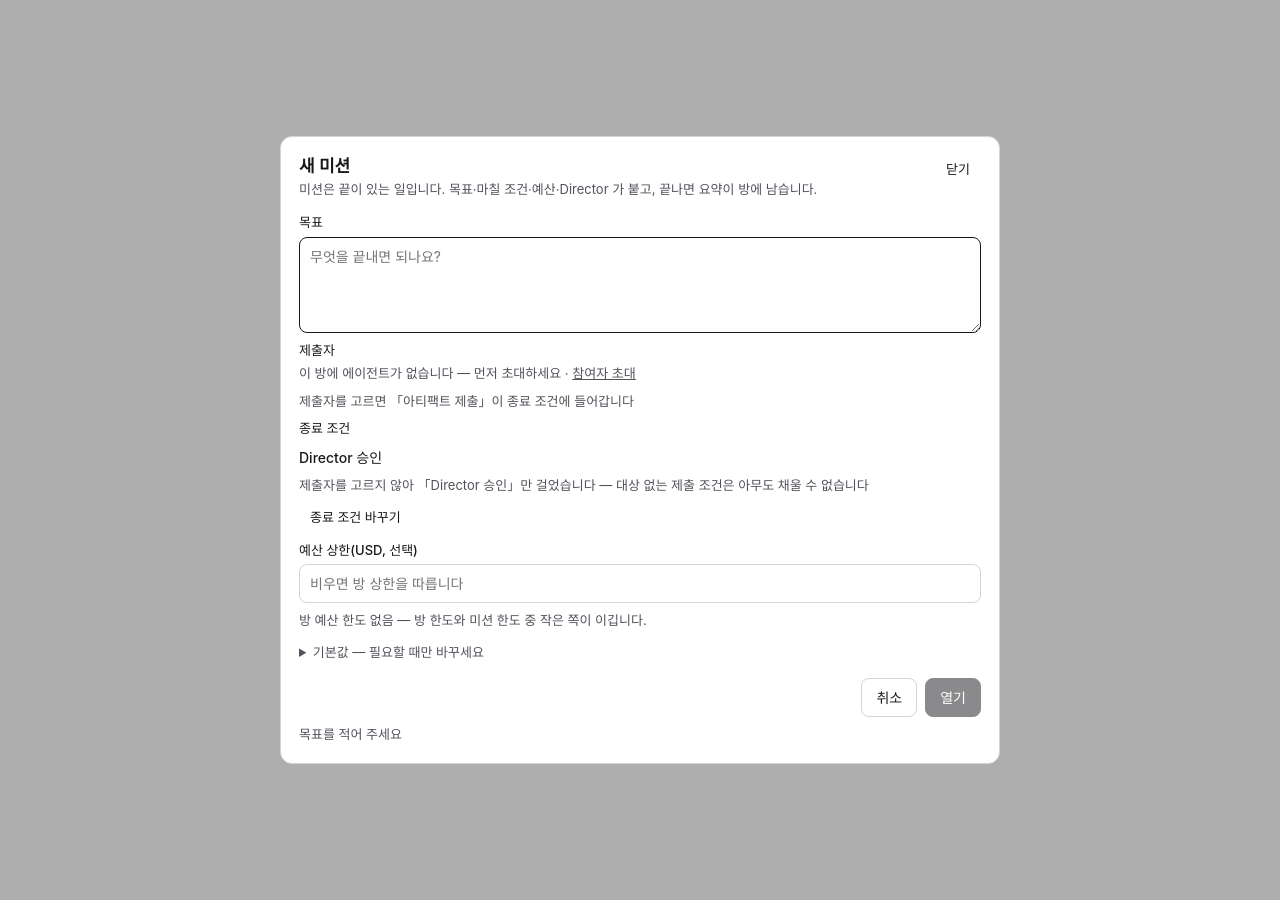
Test: S21 미션 열기 › 종료 조건 바꾸기 — 「에이전트 검토 승인」은 리뷰어 없이 열 수 없다(비활성 + 방의 말 사유)
This screenshot has width=1280, height=900.
Type "검토" into the text box with test id "rd-create-work-goal". click: (640, 285)
box: x1=299 y1=237 x2=981 y2=333
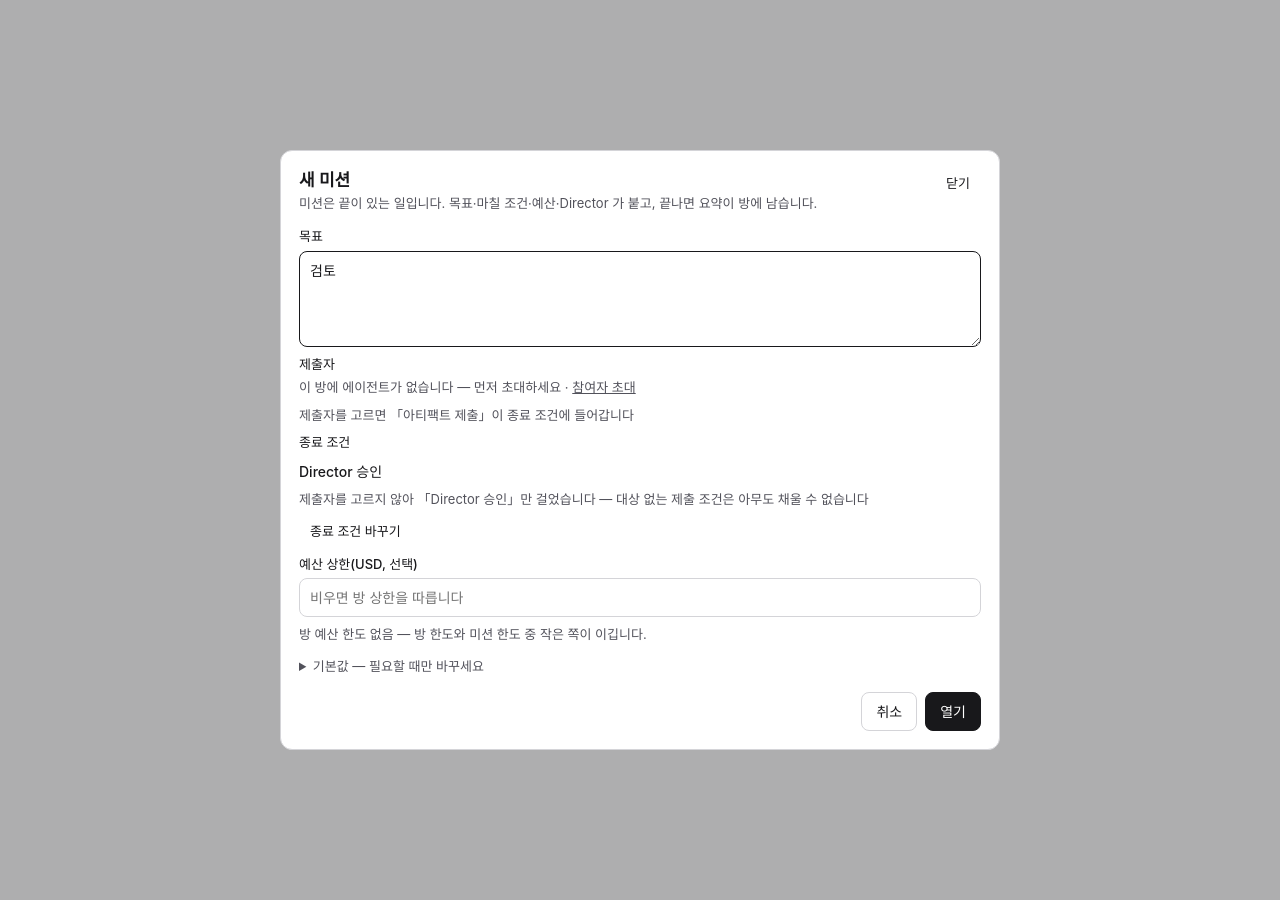
Click the button with test id "rd-create-work-condition-edit". click: (355, 532)
box: x1=299 y1=517 x2=412 y2=547
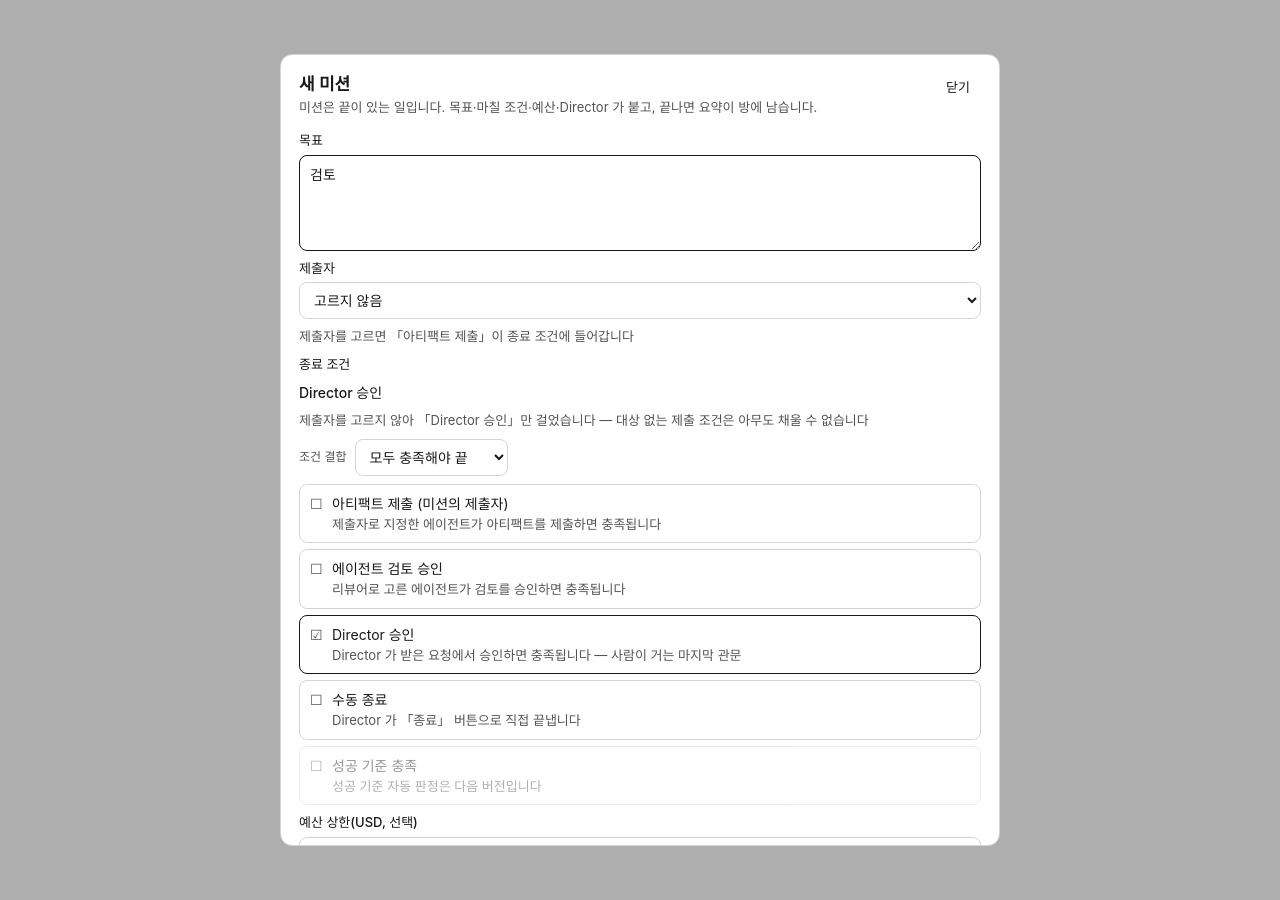
Click the button with test id "condition-row" that starts with "에이전트 검토 승인". click: (387, 569)
box: x1=299 y1=549 x2=981 y2=609
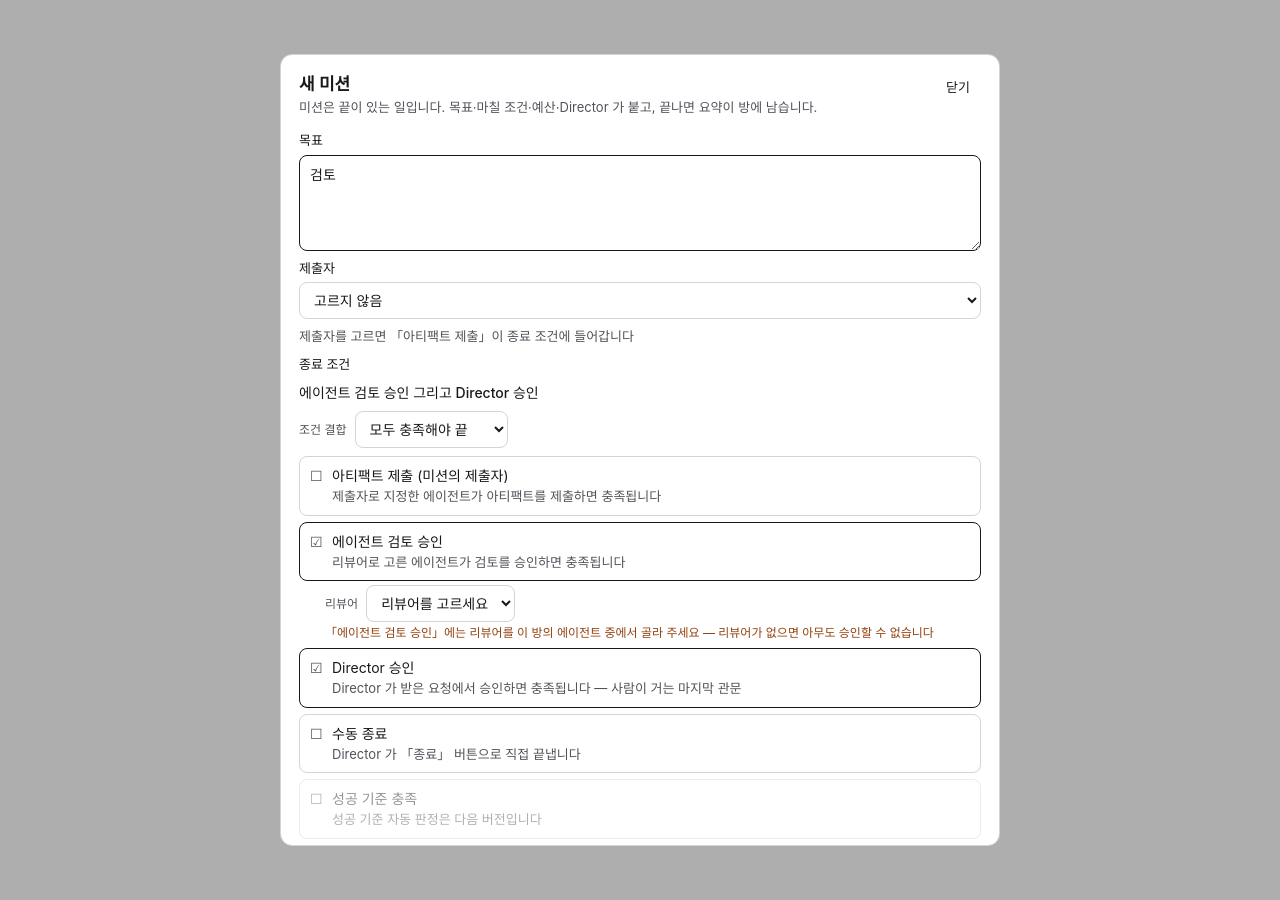
Expected: the text with test id "reviewer-required" reads "「에이전트 검토 승인」에는 리뷰어를 이 방의 에이전트 중에서 골라 주세요 — 리뷰어가 없으면 아무도 승인할 수 없습니다", x1=325 y1=625 x2=934 y2=640
